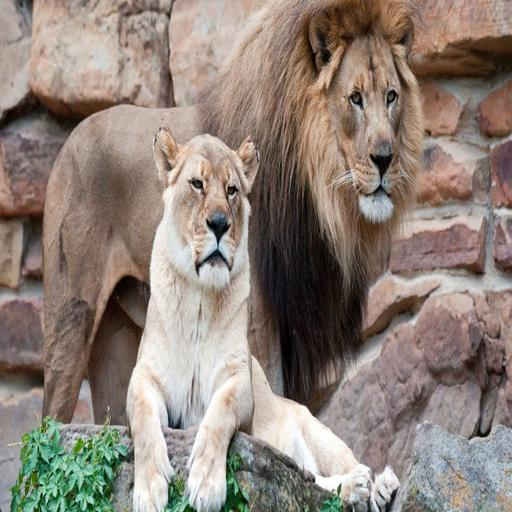Lion: (33, 0, 438, 453), (103, 128, 407, 512)
